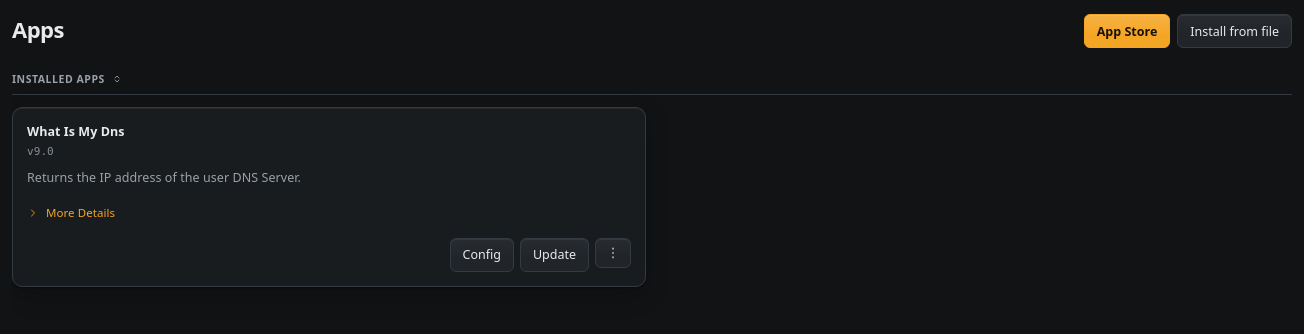
Test case: Apps: installed list › each card offers Config and Update, and keeps Uninstall in its menu
The image size is (1304, 334).
Check: the list item "What Is My Dns" is shown, box [12, 107, 646, 287]
Check: the button "Config" is shown, box [450, 238, 514, 272]
Click the button named "Actions: What Is My Dns": coordinates (613, 253) [595, 238, 631, 268]
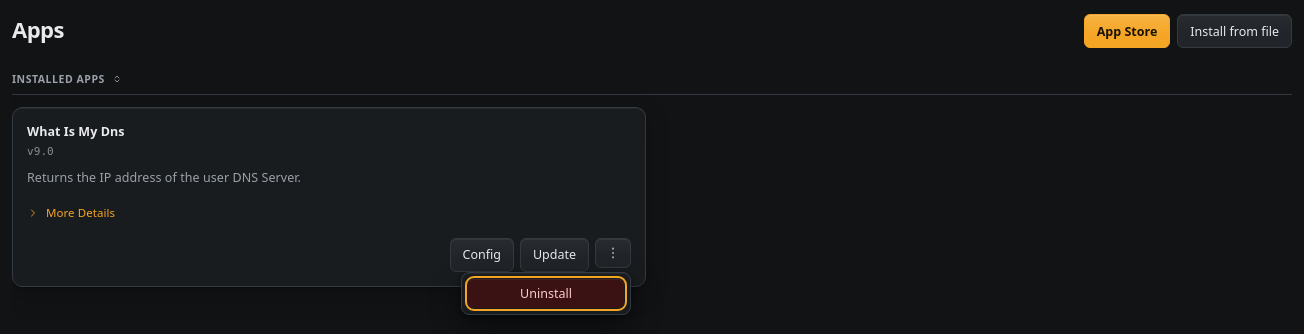
Check: the menu item "Uninstall" is shown, box [468, 279, 624, 308]
